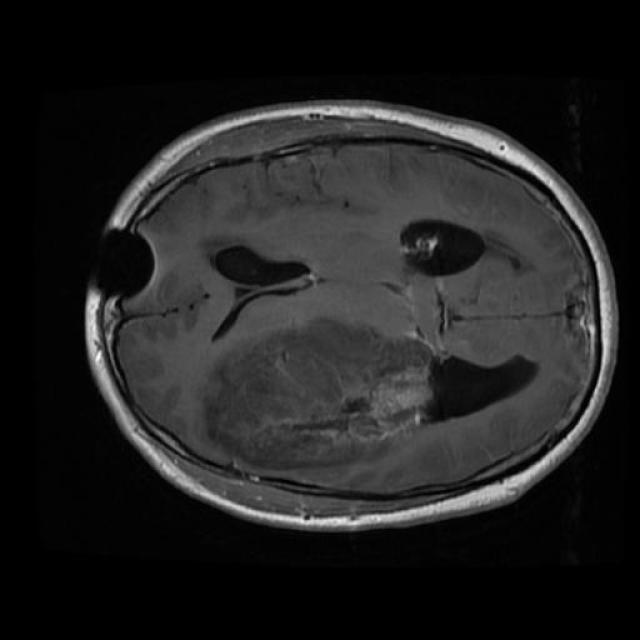Glioma: (205, 316, 439, 475)
